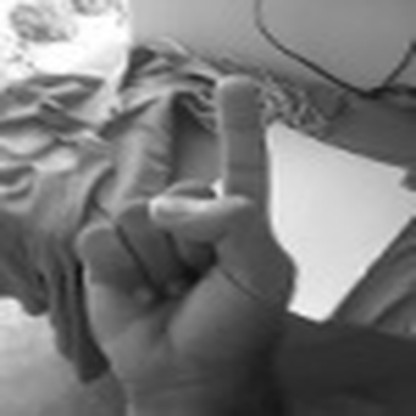d: (72, 75, 299, 409)
